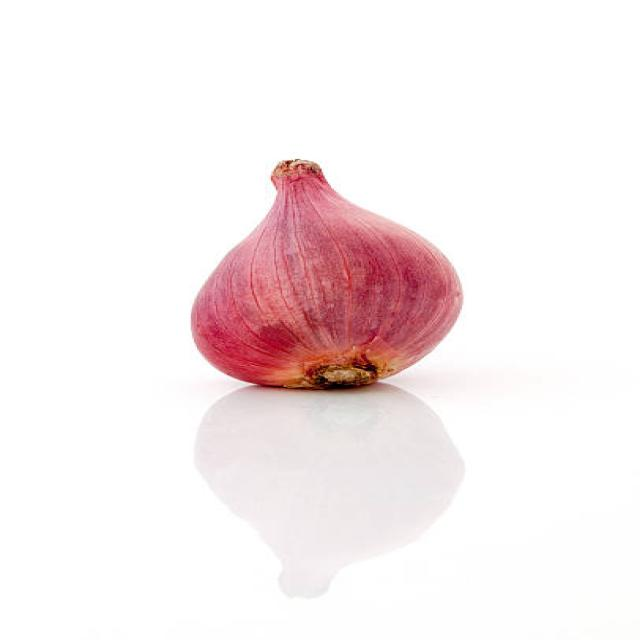onion: (193, 157, 466, 389)
